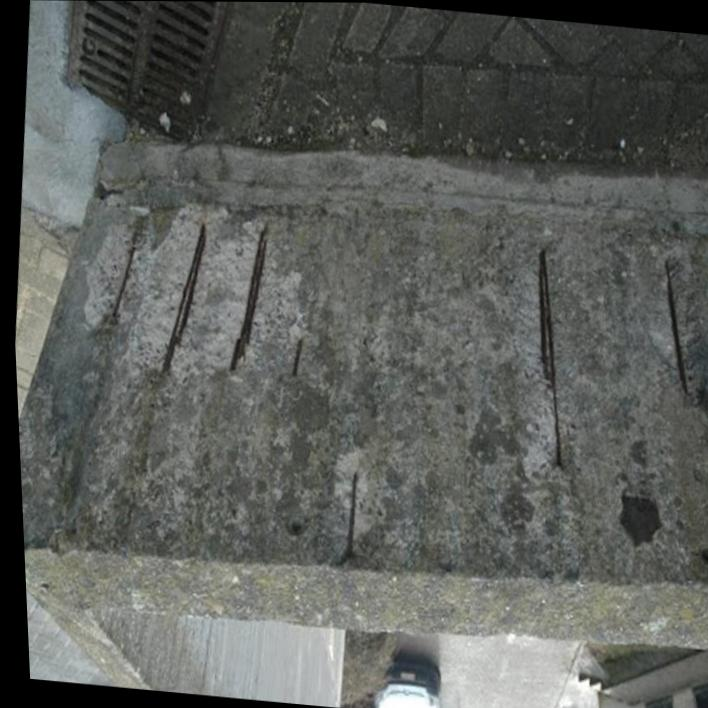damage: (77, 200, 708, 563)
